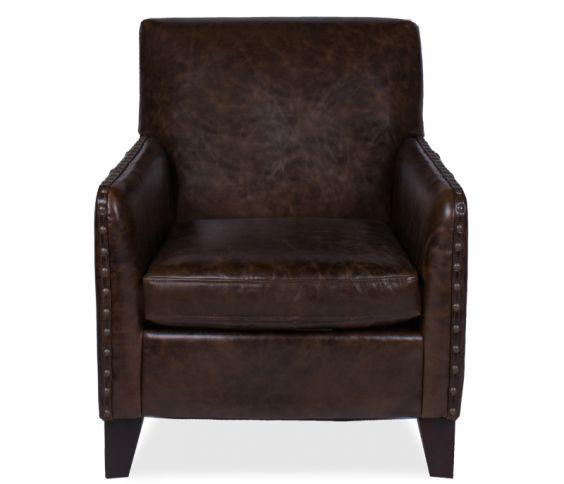chair: (83, 15, 508, 483)
